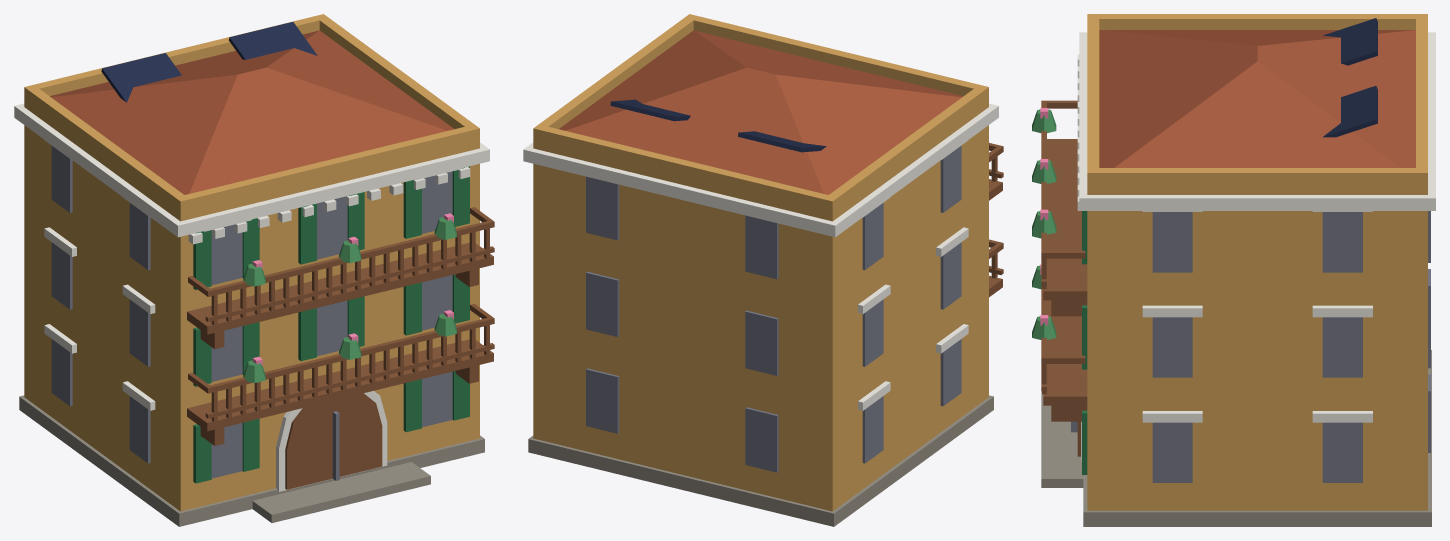
Rendered from house-1x1-3f-colonial-a-solar.glb.
The picture shows the model from 3 angles, left to right: view 1: azimuth 30°, elevation 25°; view 2: azimuth 150°, elevation 25°; view 3: azimuth 270°, elevation 25°; orthographic projection. The views are drawn at different scales.
Visible parts, largest first — view 1: house-1x1-3f-colonial-a-solar; view 2: house-1x1-3f-colonial-a-solar; view 3: house-1x1-3f-colonial-a-solar.
Boxes of the visible parts, x1,y1,x2,y2 form: house-1x1-3f-colonial-a-solar: (14,14,494,526); house-1x1-3f-colonial-a-solar: (523,14,1003,526); house-1x1-3f-colonial-a-solar: (1032,14,1435,526).
Bounding box in the file's own units: 0.98 × 1.08 × 1.01.
1 material, 1 textured.
